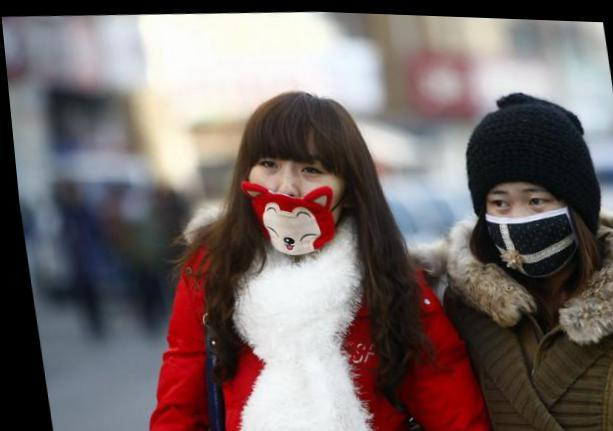OK: (471, 176, 575, 276)
WRONG: (235, 141, 350, 246)
